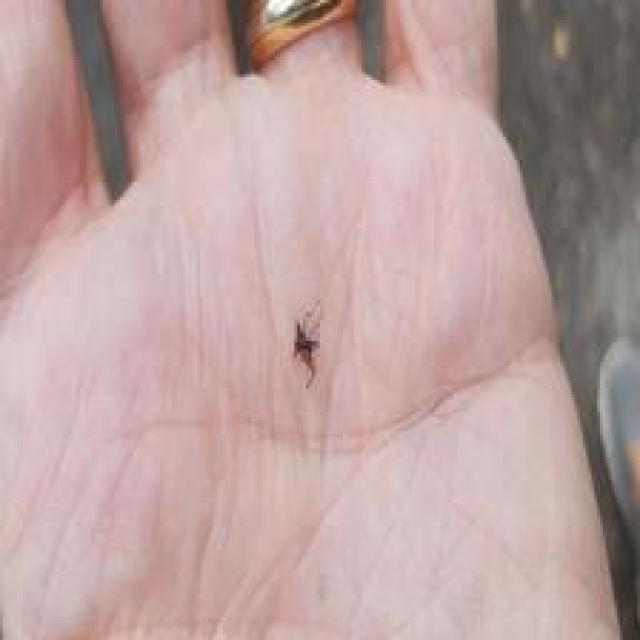Aedes albopictus: (291, 300, 323, 389)
